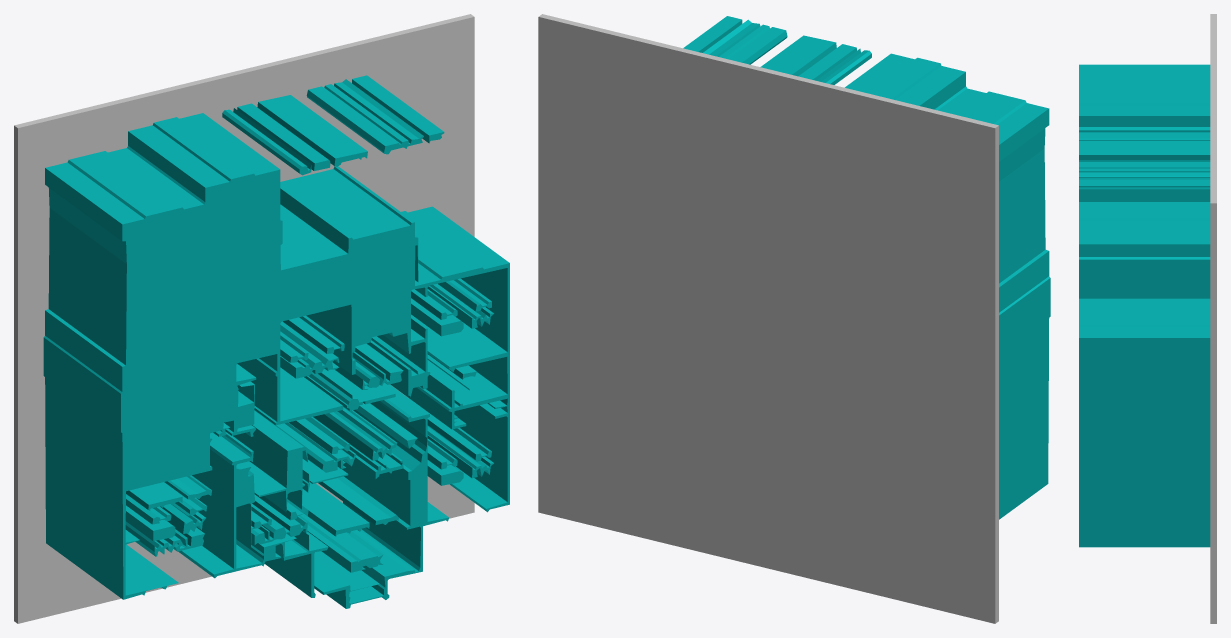
The picture shows the model from 3 angles, left to right: view 1: azimuth 30°, elevation 25°; view 2: azimuth 150°, elevation 25°; view 3: azimuth 270°, elevation 25°; orthographic projection. The views are drawn at different scales.
Visible parts, largest first — view 1: world; view 2: world; view 3: world.
Boxes of the visible parts, x1=… form: world: x1=14, y1=14, x2=509, y2=623; world: x1=538, y1=14, x2=1050, y2=623; world: x1=1079, y1=14, x2=1216, y2=623.
Size of the model in its own units: 10.23 by 10.61 by 3.15.
